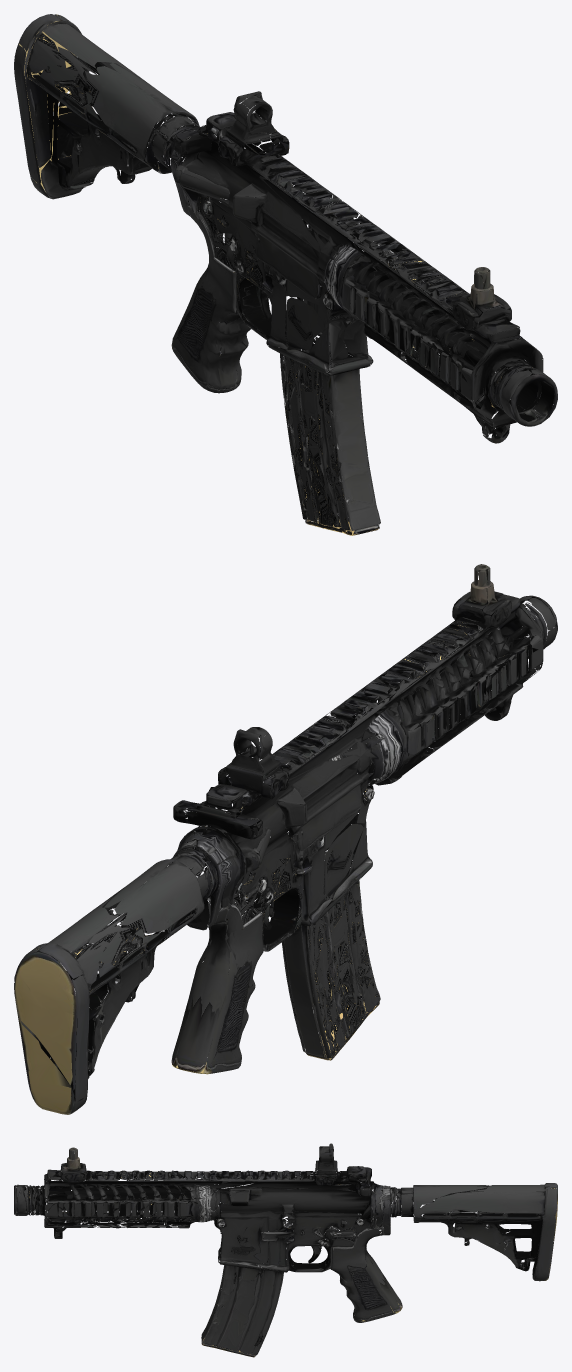
The picture shows the model from 3 angles, top to bottom: view 1: azimuth 30°, elevation 25°; view 2: azimuth 150°, elevation 25°; view 3: azimuth 270°, elevation 25°; orthographic projection. The views are drawn at different scales.
Parts seen in each view (by area): view 1: node_0; view 2: node_0; view 3: node_0.
Boxes of the visible parts, x1,y1,x2,y2 form: node_0: [14, 14, 557, 535]; node_0: [14, 564, 557, 1114]; node_0: [14, 1143, 557, 1357].
Size of the model in its own units: 0.1148 by 0.491 by 1.16.
Materials: 1 (1 with a texture image).
